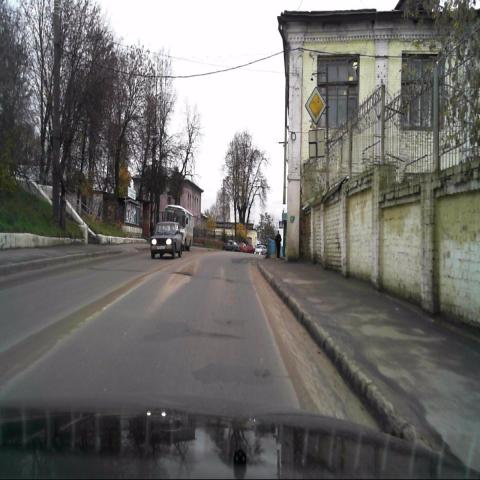8_13: (308, 130, 325, 158)
